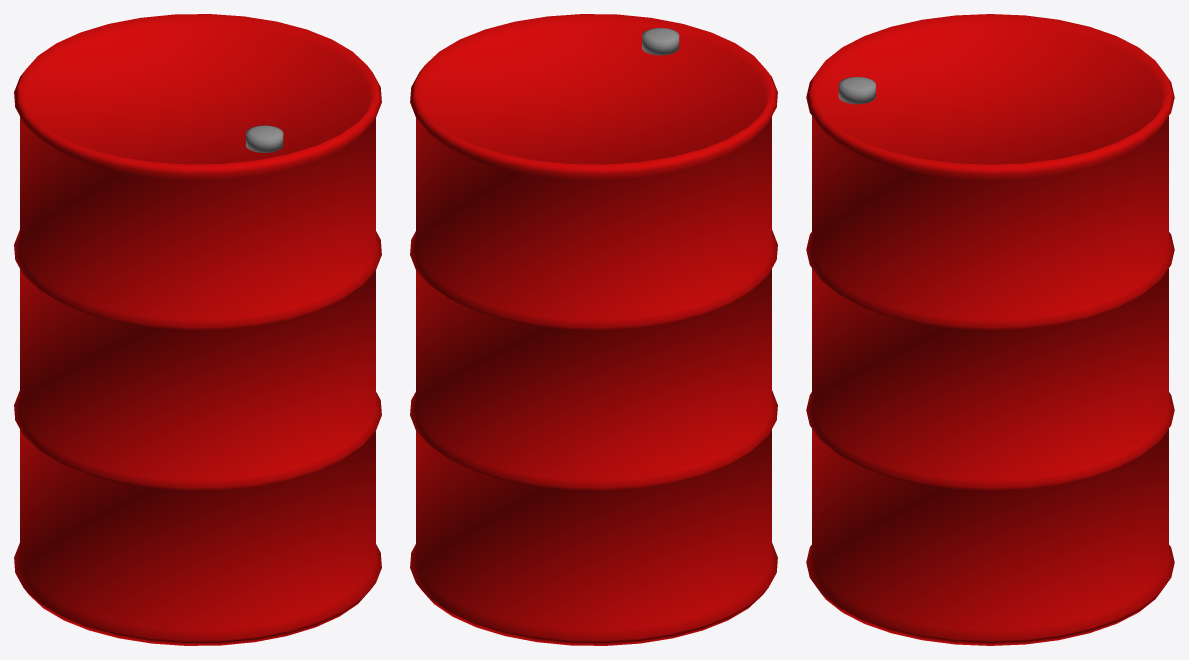
File: Oil_Barrel_01.02.fbx
The picture shows the model from 3 angles, left to right: view 1: azimuth 30°, elevation 25°; view 2: azimuth 150°, elevation 25°; view 3: azimuth 270°, elevation 25°; orthographic projection.
Visible parts, largest first — view 1: OilDrum, OilDrumCap; view 2: OilDrum, OilDrumCap; view 3: OilDrum, OilDrumCap.
Part boxes in pixels (x1,y1,x2,y2): OilDrum: (14, 14, 381, 645); OilDrumCap: (246, 125, 283, 152); OilDrum: (410, 14, 777, 645); OilDrumCap: (642, 28, 679, 55); OilDrum: (806, 14, 1174, 645); OilDrumCap: (838, 76, 875, 104).
Bounding box in the file's own units: 59.04 × 59.04 × 86.44.
